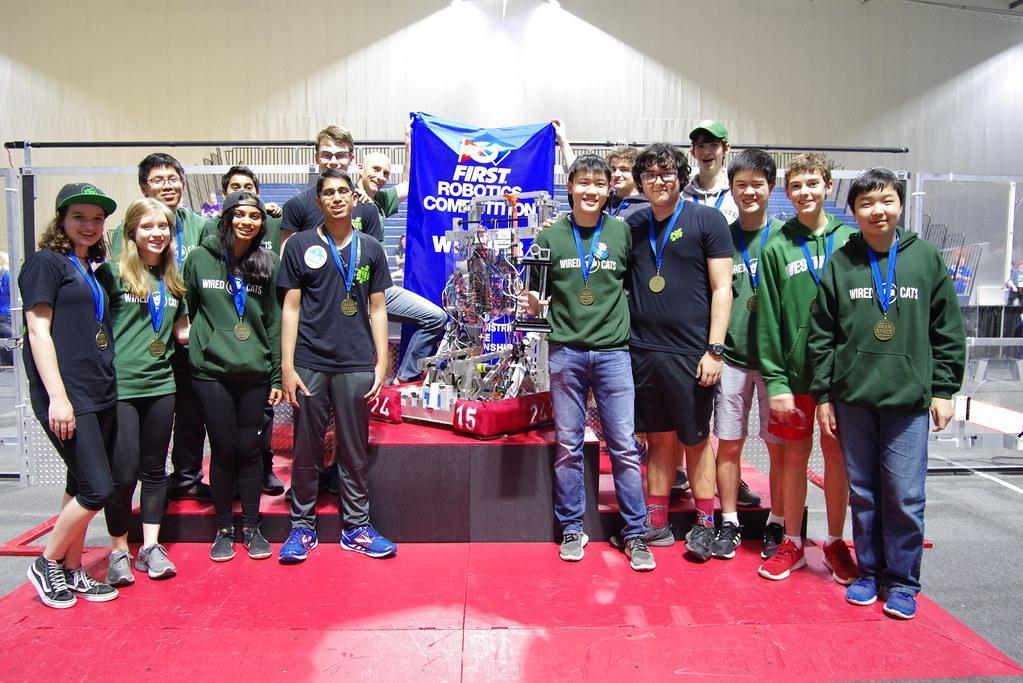robot: (359, 184, 586, 439)
